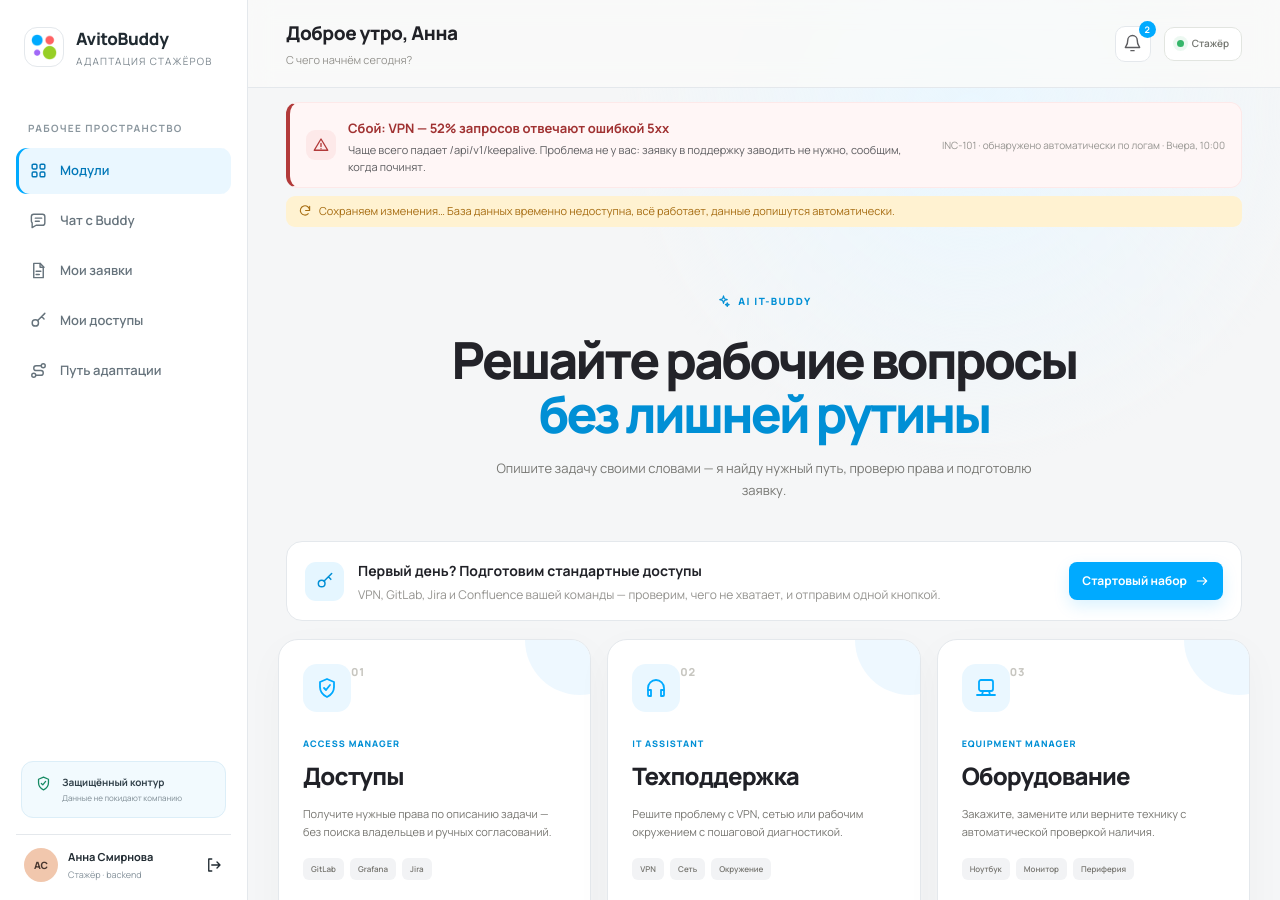
Test case: уведомления и сбои › колокольчик, переход по уведомлению, баннер сбоя от радара, плашка базы
Later steps or results of the test are not shown.
Expected: the text "INC-101 · обнаружено автоматически по логам · Вчера, 10:00" is shown, [942,138,1225,152]
Expected: the text "Сохраняем изменения" is shown, [319,203,895,218]
Click the button named "Уведомления" at coordinates (1133, 44), box [1115,26,1151,62]
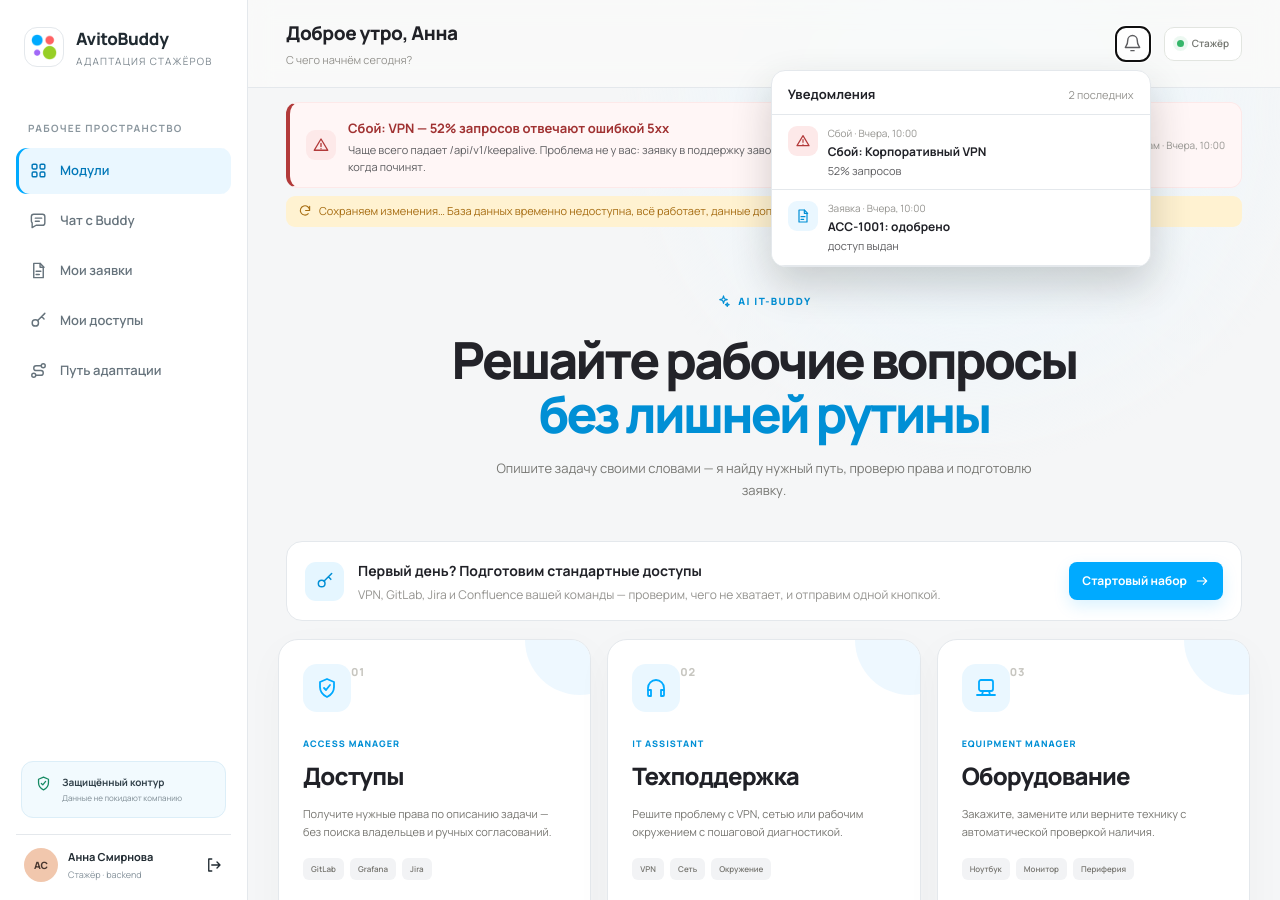
Expected: the text "Сбой: Корпоративный VPN" is shown, [828,143,986,161]
